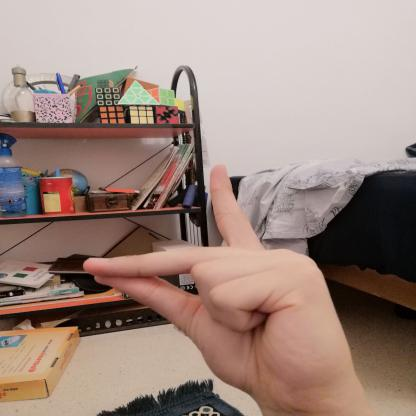TAA: (63, 152, 374, 406)
